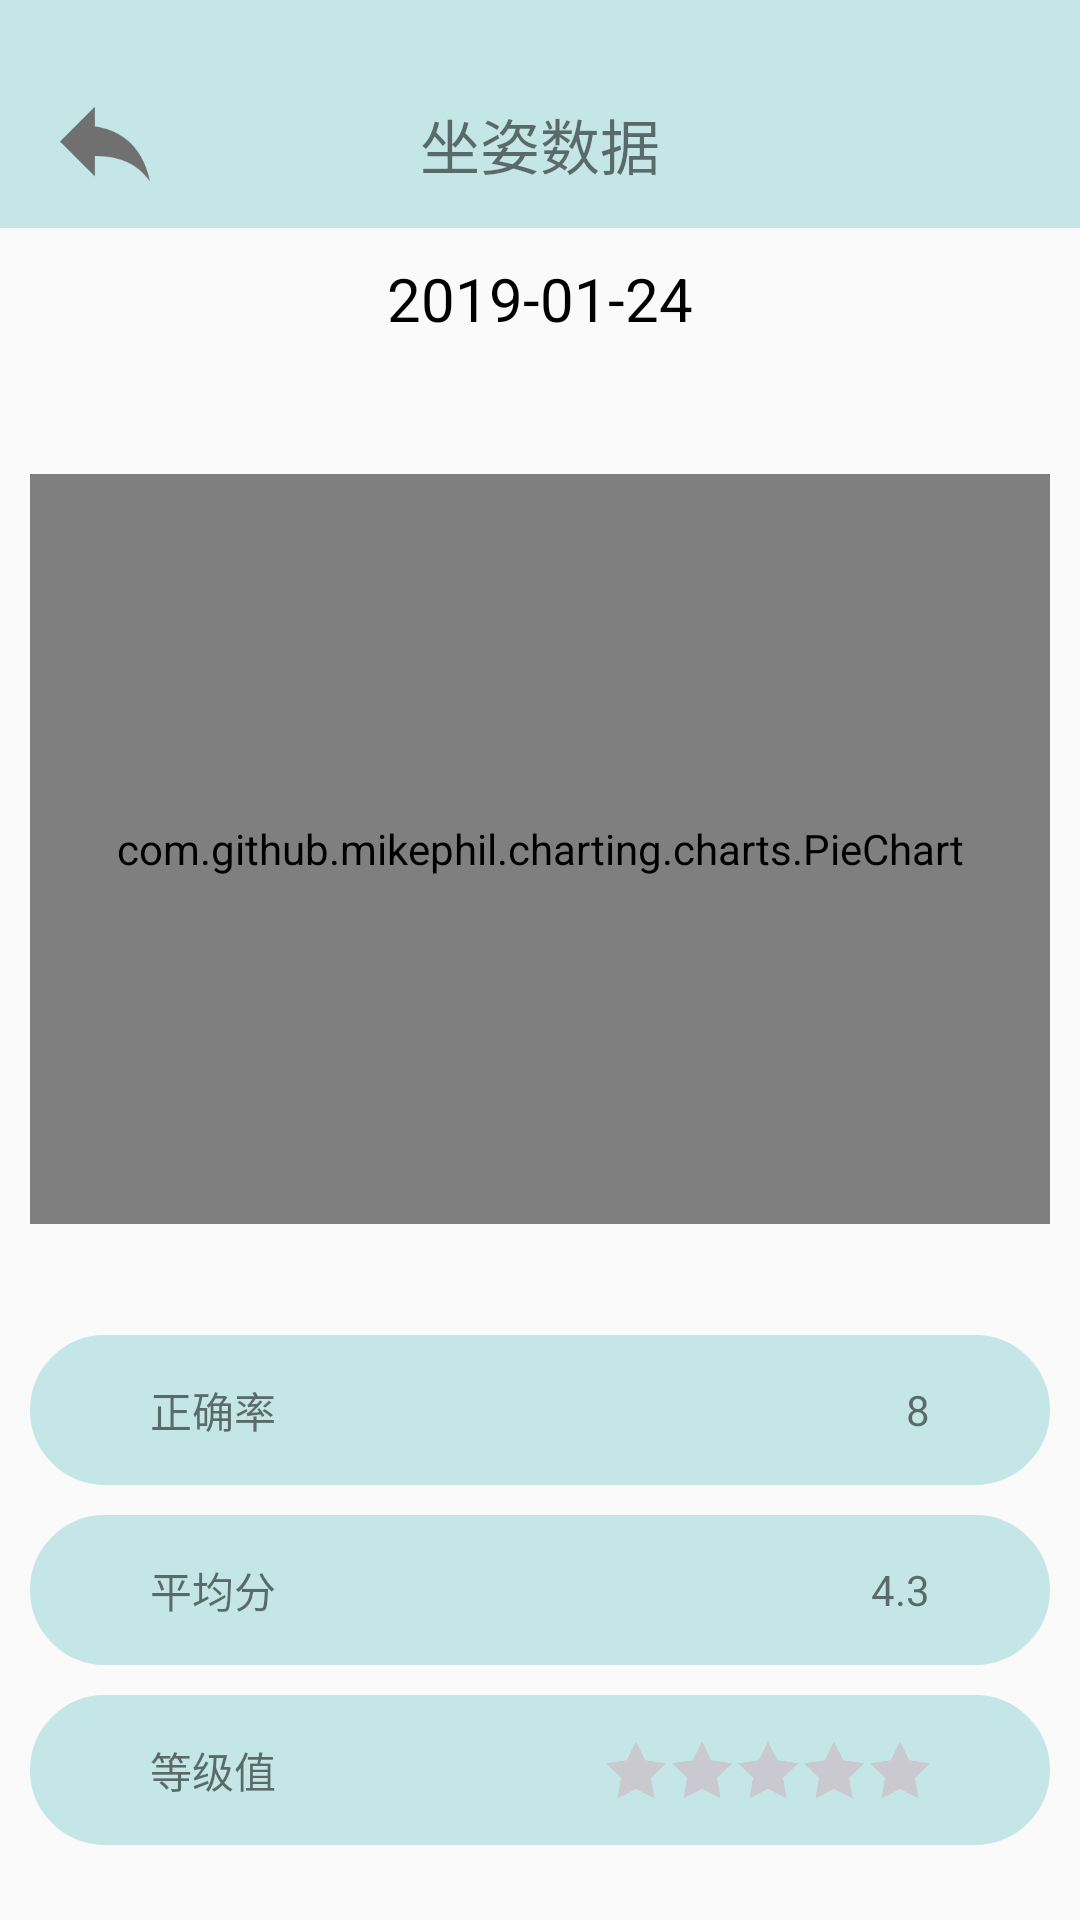

Screen size 1080px×1920px. Icon name, then its box in pixels as (x1, y1, x2, y2):
back all: (60, 107, 150, 181)
zero star: (607, 1743, 666, 1798), (673, 1743, 732, 1798), (739, 1743, 798, 1798), (805, 1743, 864, 1798), (871, 1743, 930, 1798)
